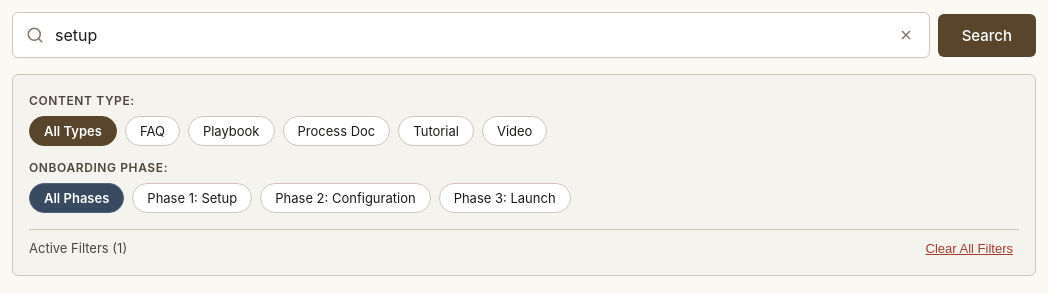
Scenario: SearchBar Component › shows clear query button when input has text and clears on click
The image size is (1048, 293).
Click the button with test id "clear-query-button".
click(906, 35)  # box [894, 23, 918, 47]
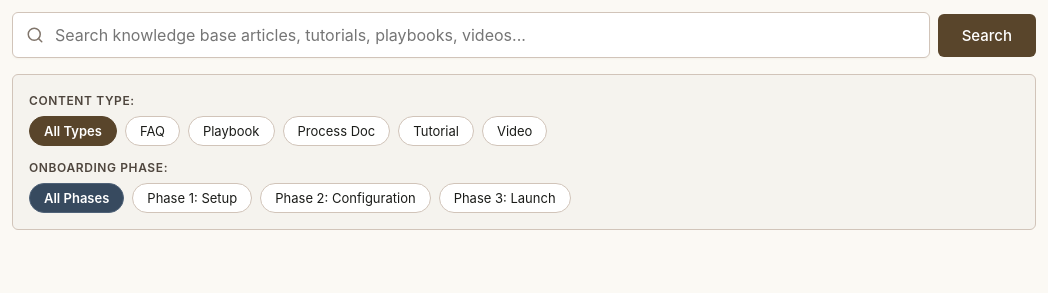
Result: the search field with test id "search-input" is empty at [12, 12, 930, 58]
